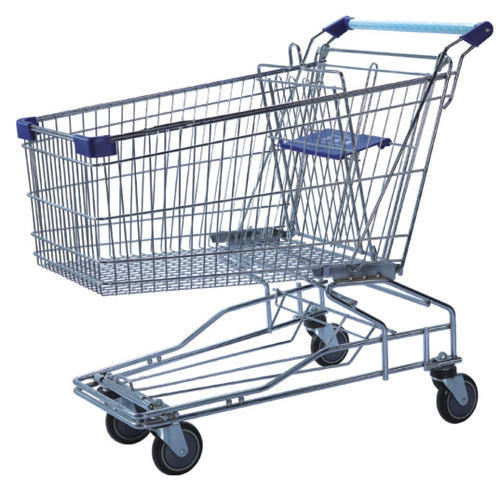with_basket: (20, 16, 494, 465)
